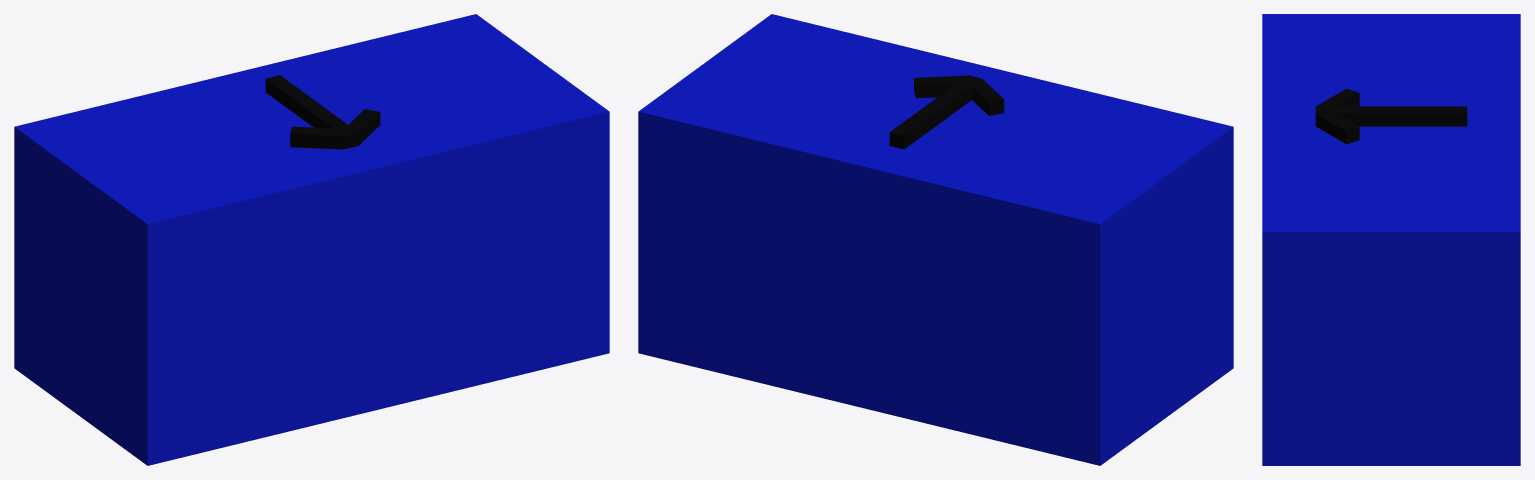
The model's file is blue.fbx.
3 renders of one model, left to right at view 1: azimuth 30°, elevation 25°; view 2: azimuth 150°, elevation 25°; view 3: azimuth 270°, elevation 25°, orthographic. The views are drawn at different scales.
Visible parts, largest first — view 1: Cube, Cube.001; view 2: Cube, Cube.001; view 3: Cube, Cube.001.
Boxes of the visible parts, x1,y1,x2,y2 form: Cube: (14,14,609,465); Cube.001: (265,75,380,149); Cube: (638,14,1233,465); Cube.001: (889,75,1004,149); Cube: (1262,14,1520,465); Cube.001: (1315,88,1467,144).
Size of the model in its own units: 400 by 211 by 200.
